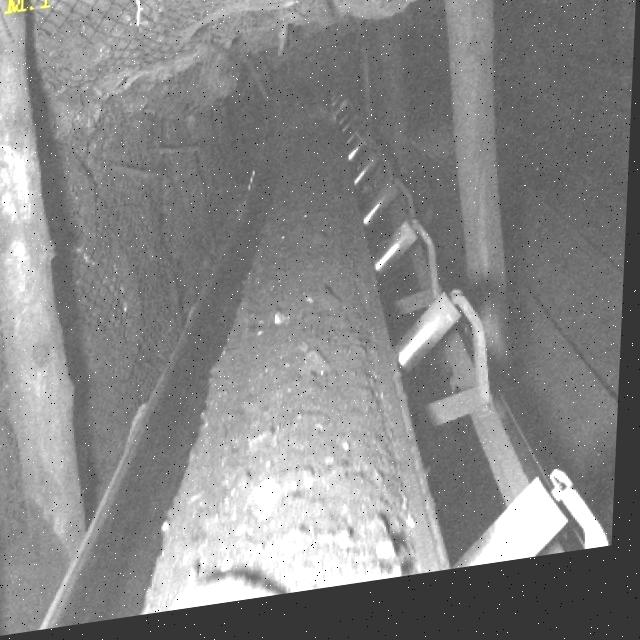large_sized_coal: (167, 575, 286, 618), (263, 476, 322, 519), (296, 350, 333, 390)
